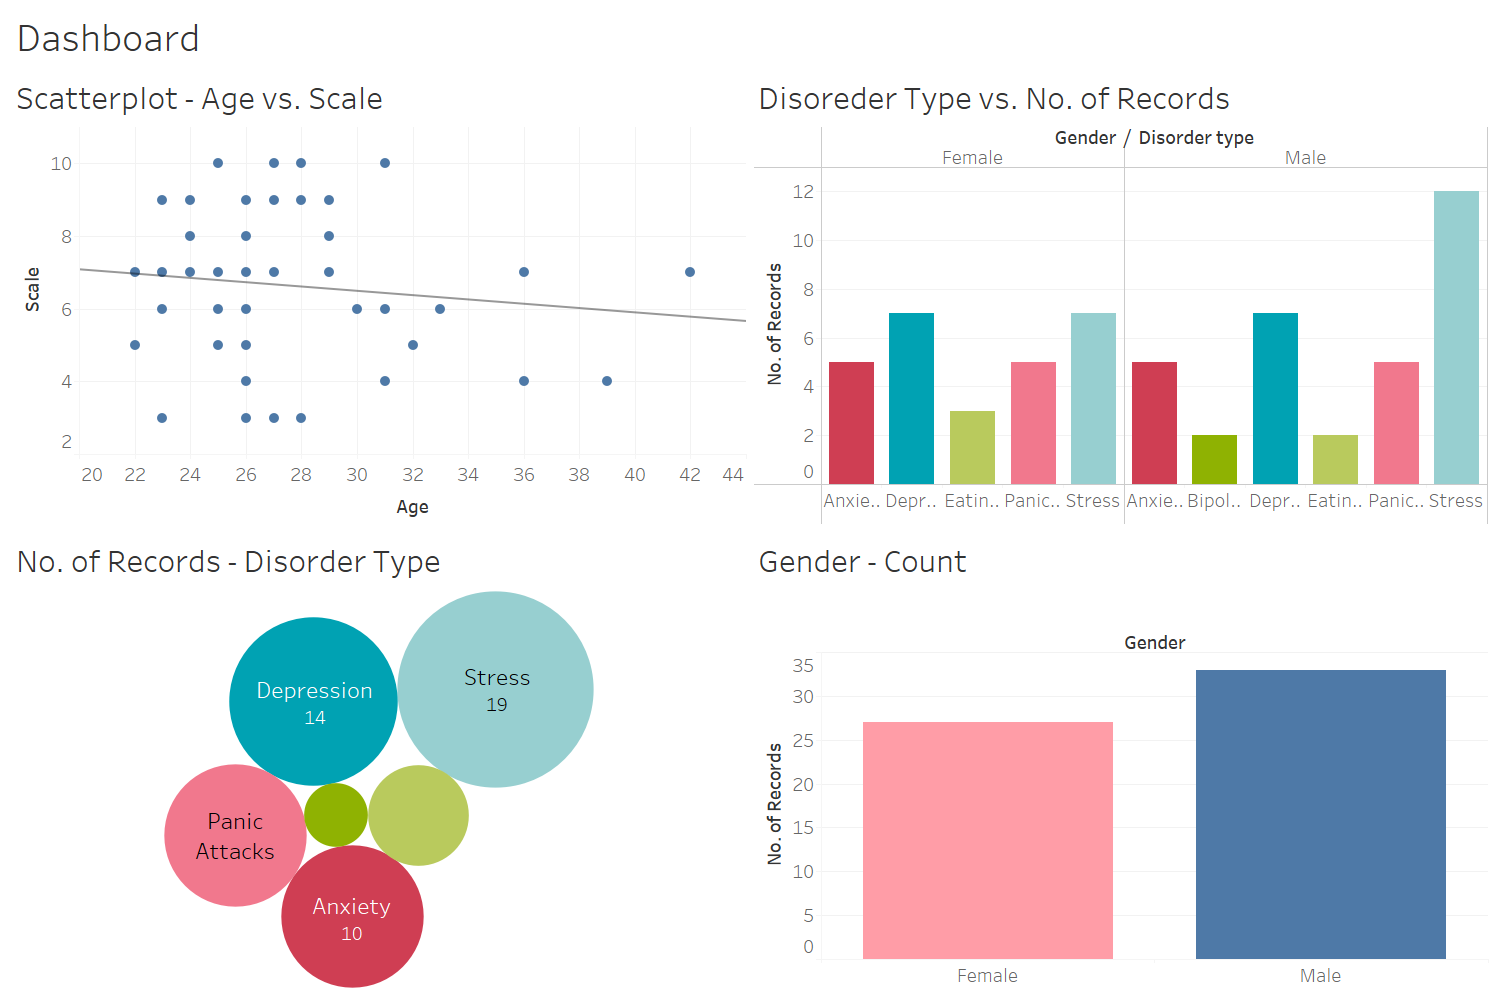

Layout of this report page (visuals, bound fields, positions):
{"tool":"tableau","page":{"name":"Dashboard ","canvas":[1500,1000],"ordinal":0},"visuals":[{"type":"title","box":[8,8,1484,58]},{"type":"worksheet","title":"Scatterplot","mark":"Circle","rows":["Scale"],"cols":["Age"],"box":[8,66,742,463]},{"type":"worksheet","title":"D v N v G","mark":"Automatic","rows":["Calculation_291608113301618688"],"cols":["Gender","Disorder_type"],"box":[750,66,742,463]},{"type":"worksheet","title":"N v D","mark":"Circle","box":[8,529,742,463]},{"type":"worksheet","title":"Ge v Cn","mark":"Automatic","rows":["Calculation_291608113301618688"],"cols":["Gender"],"box":[750,529,742,463]}]}

Visuals, with their boxes in screenshot pixels (x1, y1, x2, y2), scaled from the page's 1500x1000 canvas onto the 1500x1000 screenshot:
title: (8, 8, 1492, 66)
"Scatterplot" worksheet (Circle marks): (8, 66, 750, 529)
"D v N v G" worksheet: (750, 66, 1492, 529)
"N v D" worksheet (Circle marks): (8, 529, 750, 992)
"Ge v Cn" worksheet: (750, 529, 1492, 992)
